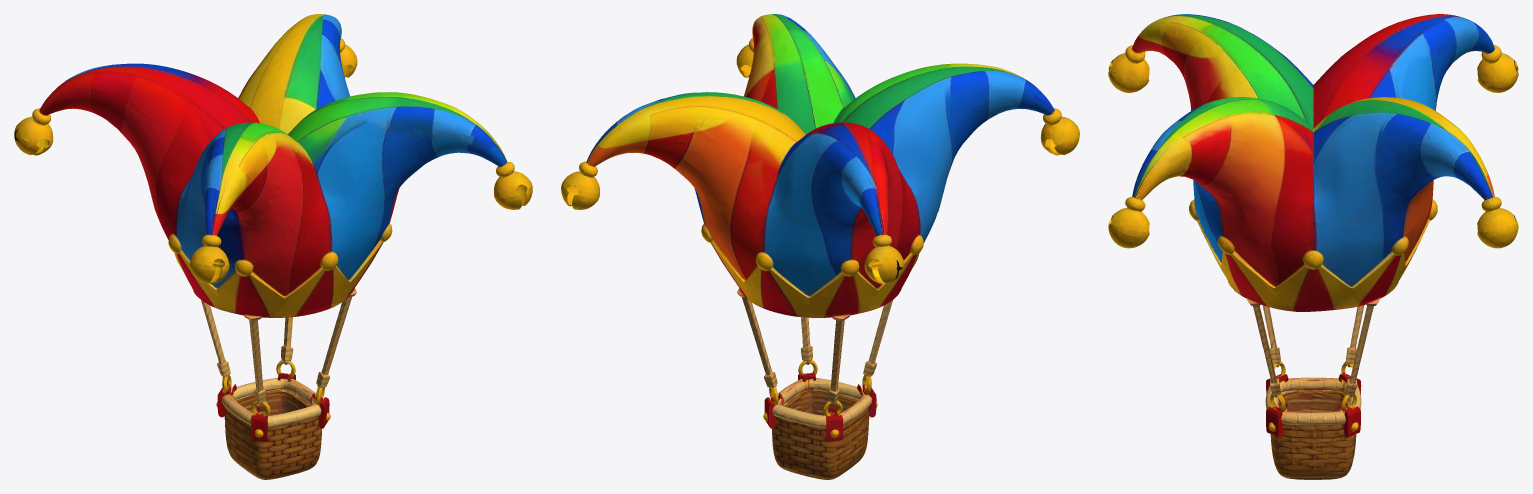
The model's file is jester.glb.
3 renders of one model, left to right at view 1: azimuth 30°, elevation 25°; view 2: azimuth 150°, elevation 25°; view 3: azimuth 270°, elevation 25°, orthographic. The views are drawn at different scales.
Bounding box in the file's own units: 1.73 × 1.9 × 1.74.
Materials: 1 (1 with a texture image).
